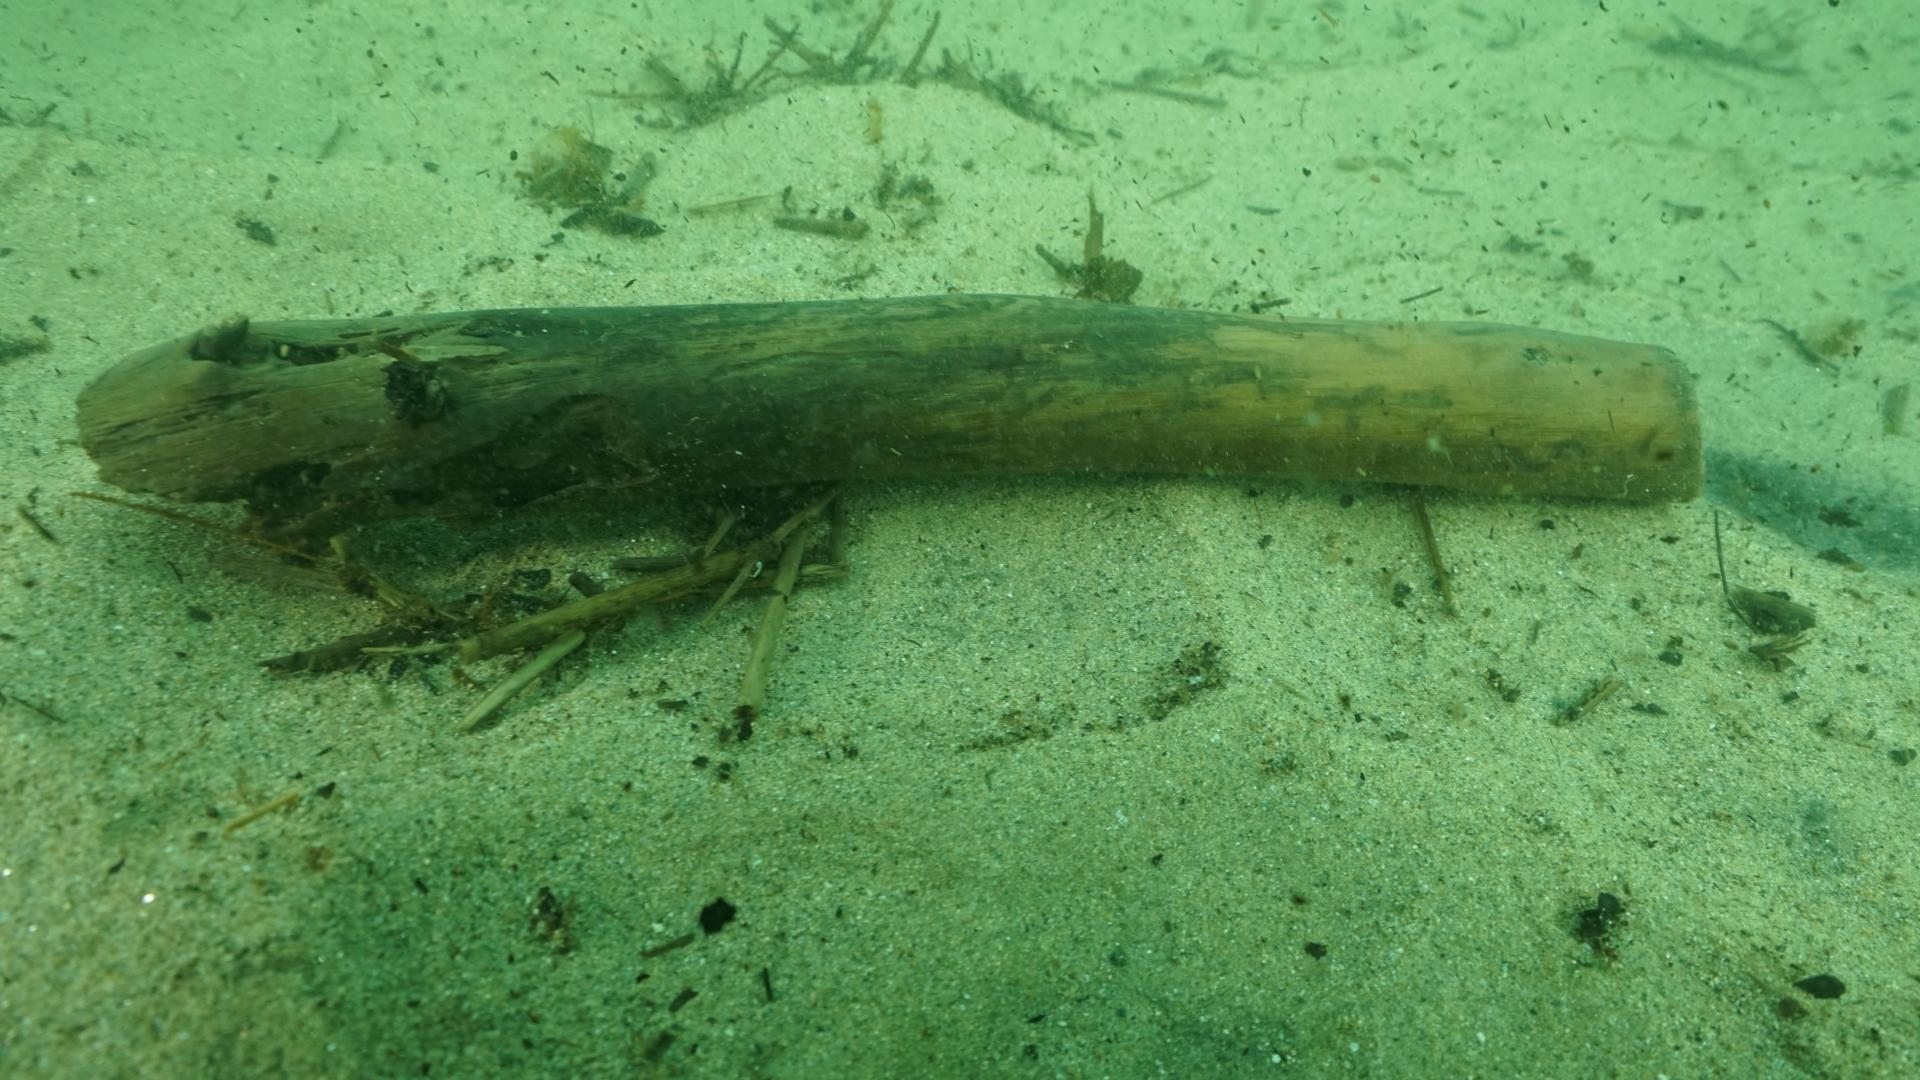wood: (76, 294, 1697, 538)
